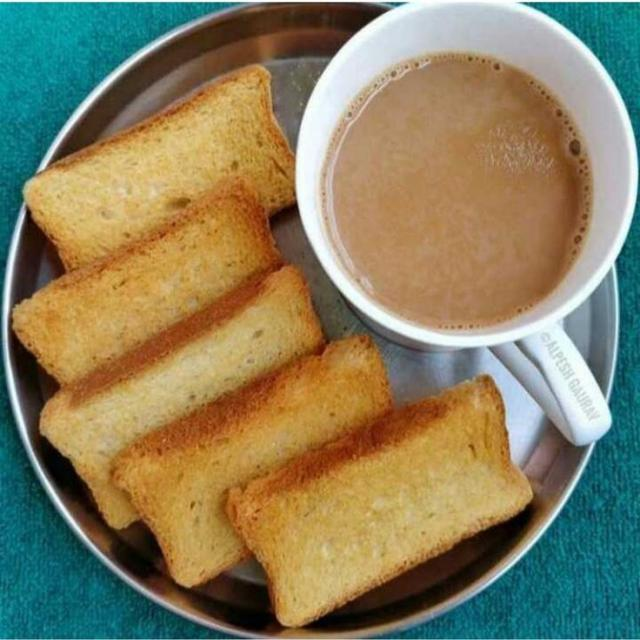toast bread: (227, 376, 532, 627), (40, 267, 323, 528), (114, 337, 391, 586), (14, 178, 281, 384), (25, 66, 294, 270)
